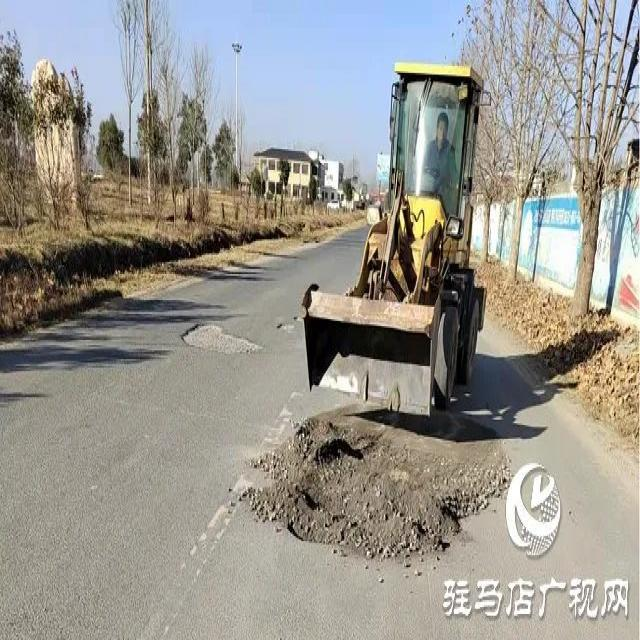pothole: (254, 410, 512, 559), (180, 319, 262, 356), (274, 321, 293, 332)
